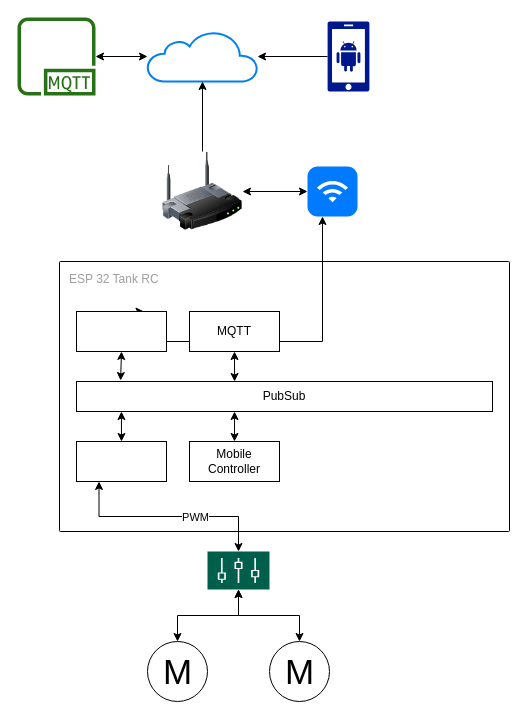
Image size: 527x719. Some labels were removed from this diagram. Each missing label, with the centre of its shape:
Motor Driver DRV 8833: the point at 121,461
Phone Controller: the point at 348,56
Wifi: the point at 121,331
